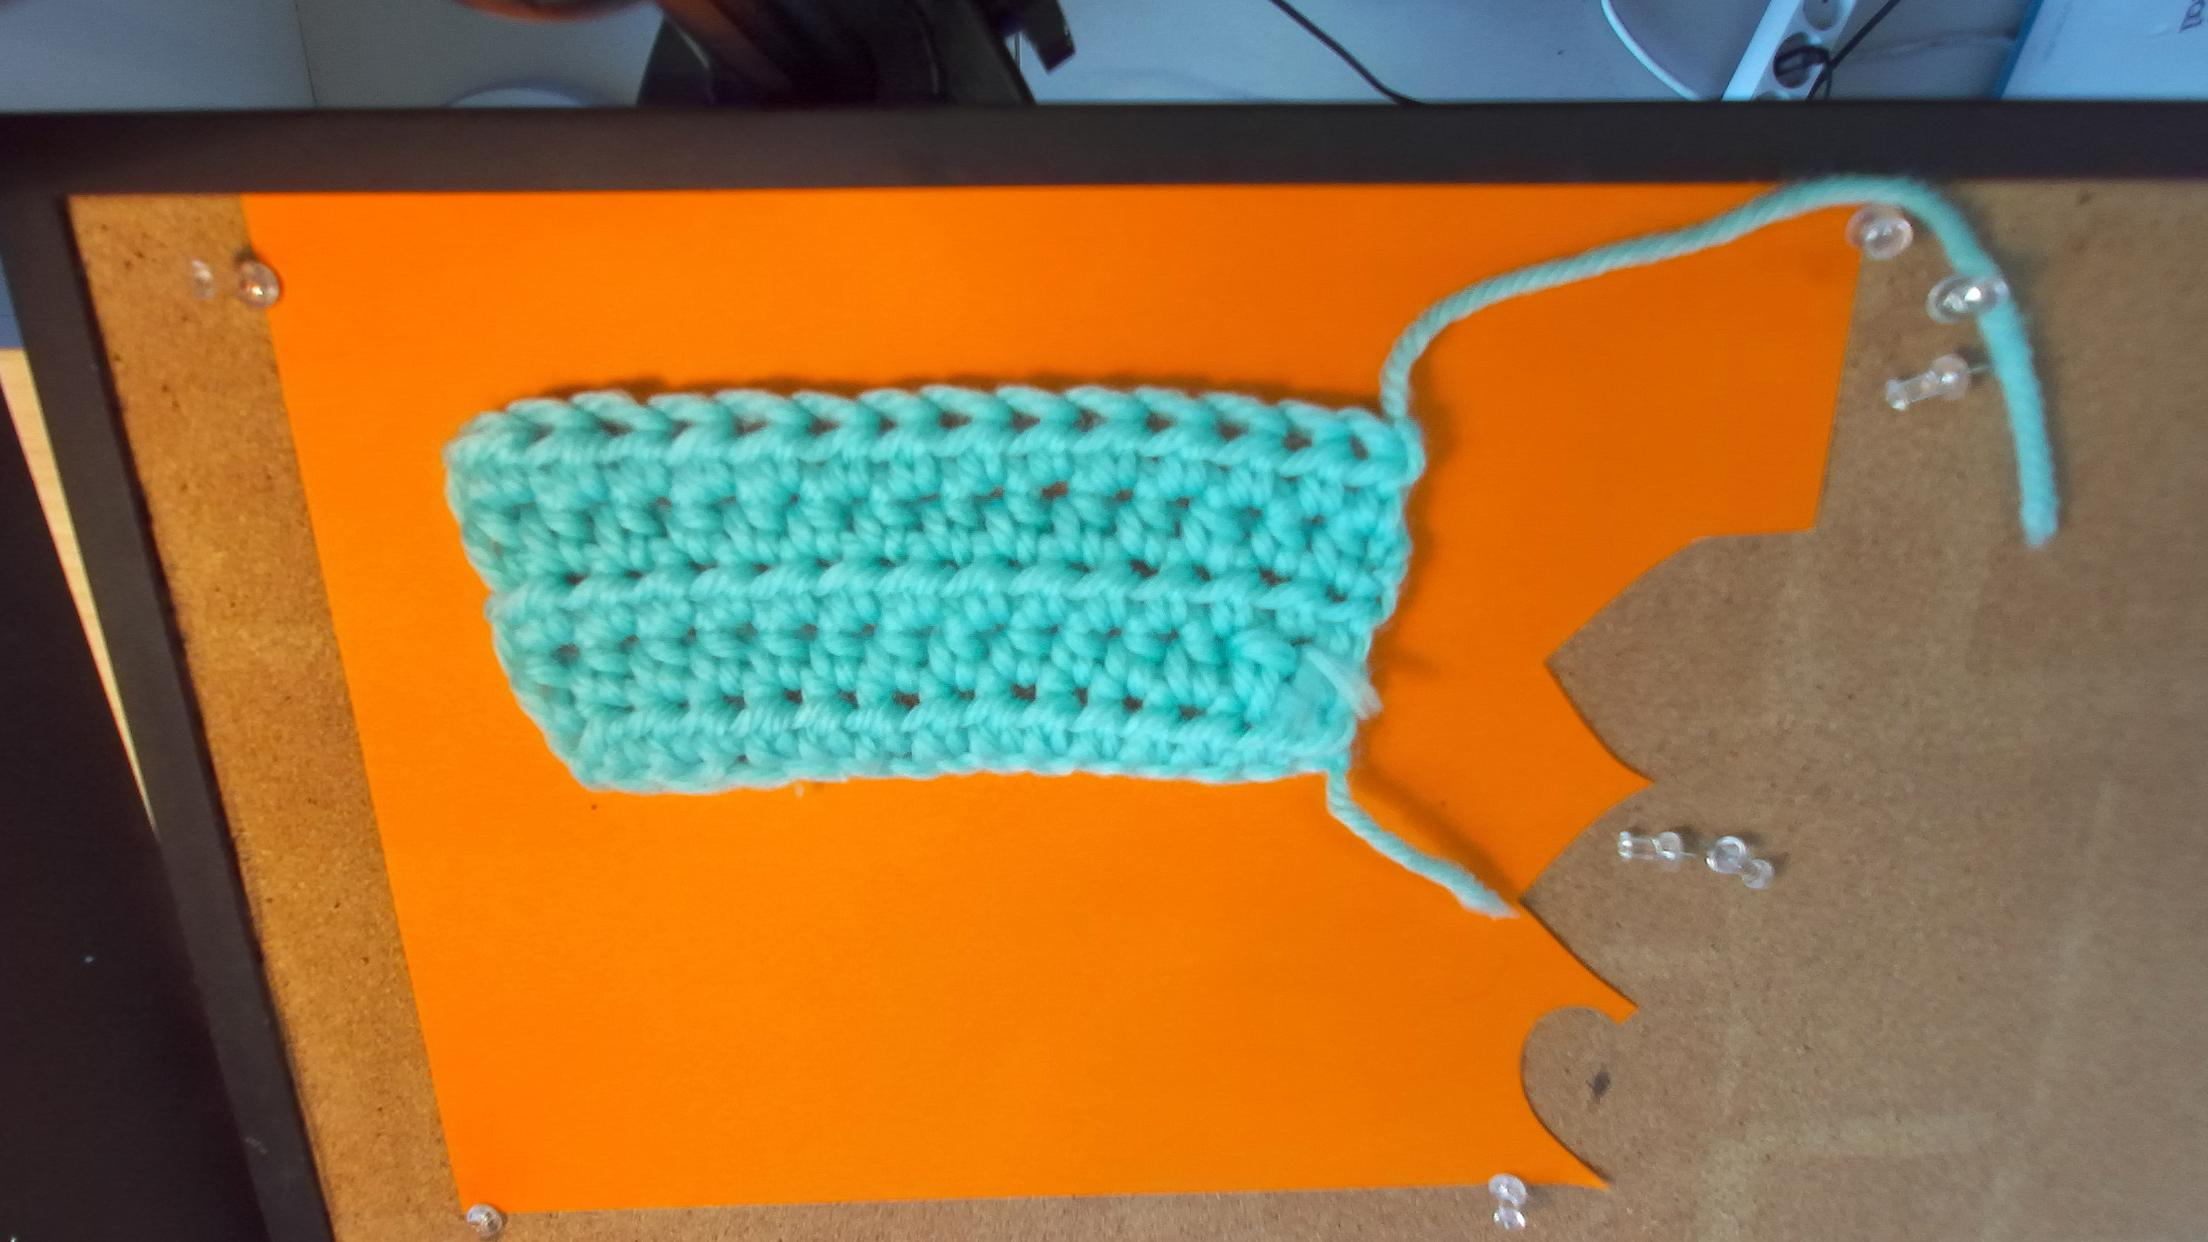hole: (581, 416, 637, 440), (1002, 403, 1045, 435), (1213, 412, 1251, 444), (1066, 406, 1109, 432), (726, 416, 773, 437), (520, 422, 558, 447), (1281, 425, 1313, 455), (804, 412, 845, 435), (664, 414, 699, 440), (1145, 412, 1177, 435), (937, 412, 972, 431), (878, 412, 901, 440), (1348, 434, 1369, 461)
swatch: (440, 384, 1424, 798)
